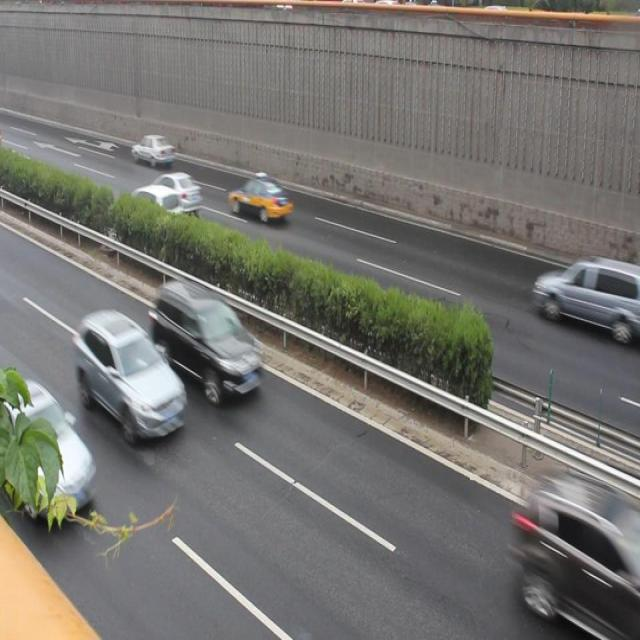car: (524, 463, 633, 640), (74, 312, 188, 443), (152, 278, 262, 401), (1, 378, 93, 522), (228, 173, 292, 224), (120, 182, 179, 230), (148, 168, 201, 212), (132, 133, 174, 168)
truck: (534, 254, 640, 344)
